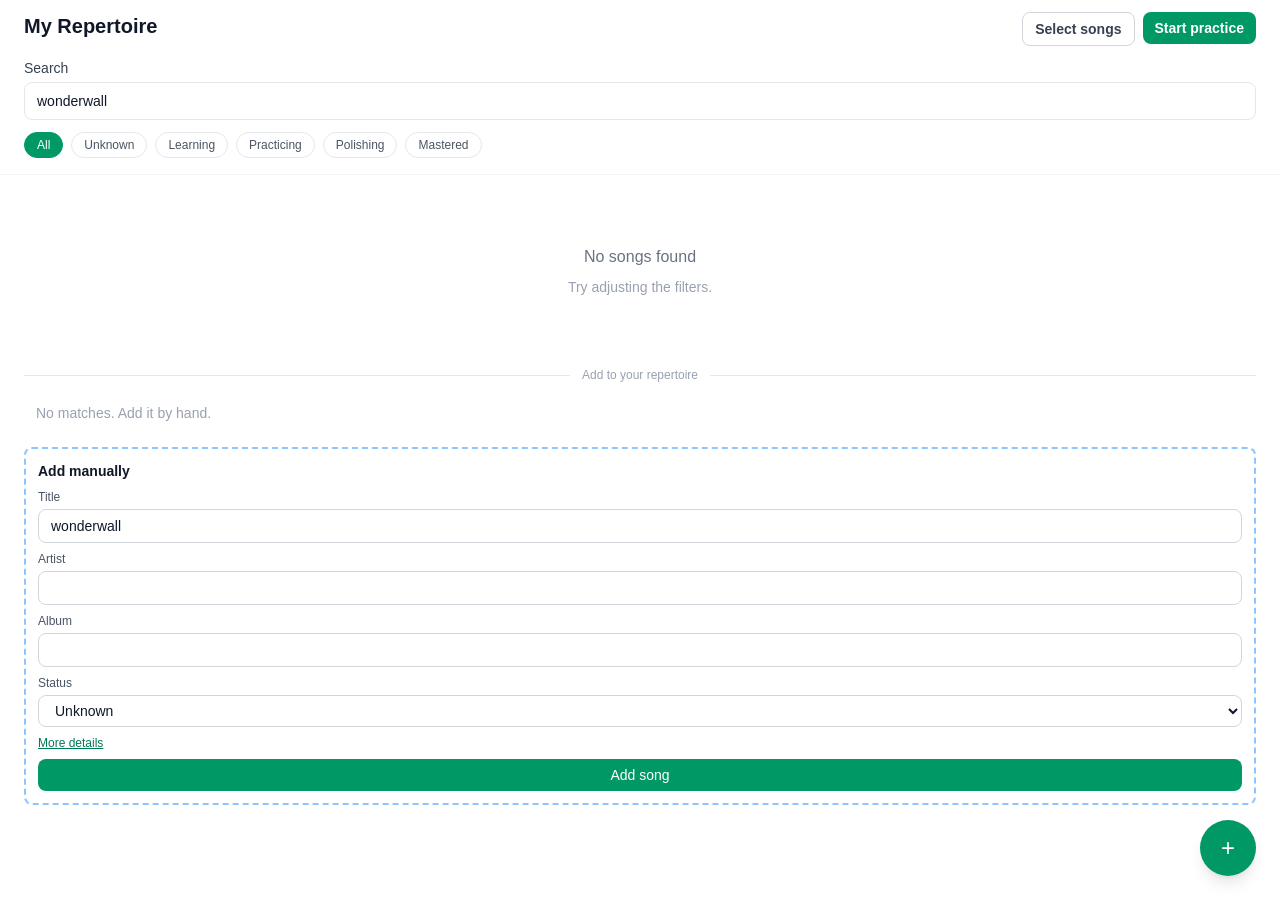
Scenario: manual entry panel (RH-152) › hides key, duration, cover and links until the disclosure opens
Expected: the field labelled "Title" is shown, [38,509,1242,543]
Expected: the field labelled "Artist" is shown, [38,571,1242,605]
Click the button "More details": (71, 743) [38,735,103,751]
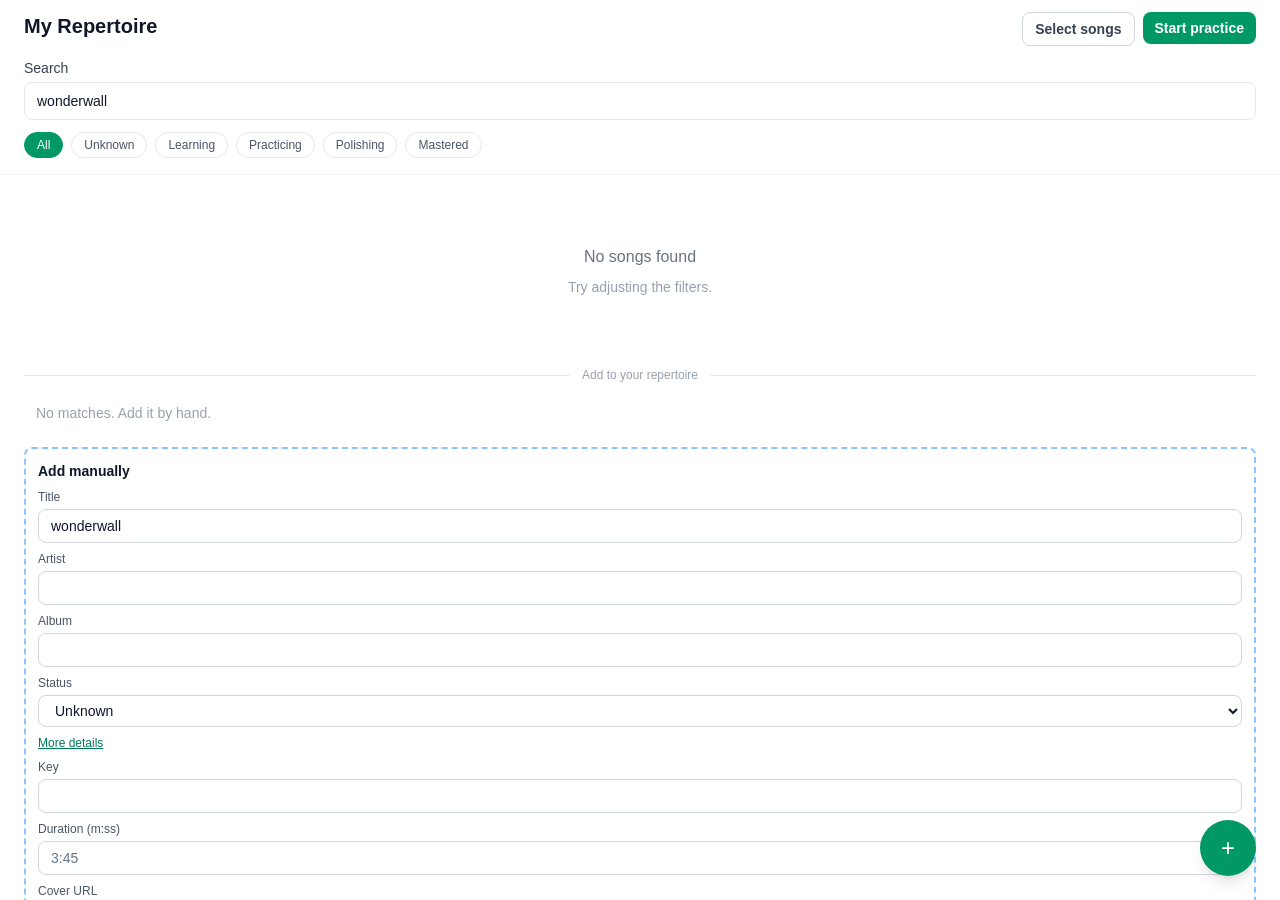
Now the field labelled "Key" is shown
Now the field labelled "Duration (m:ss)" is shown, box [38,841,1242,875]
In the field labelled "Key": (640, 796) [38,779,1242,813], type "F#m"
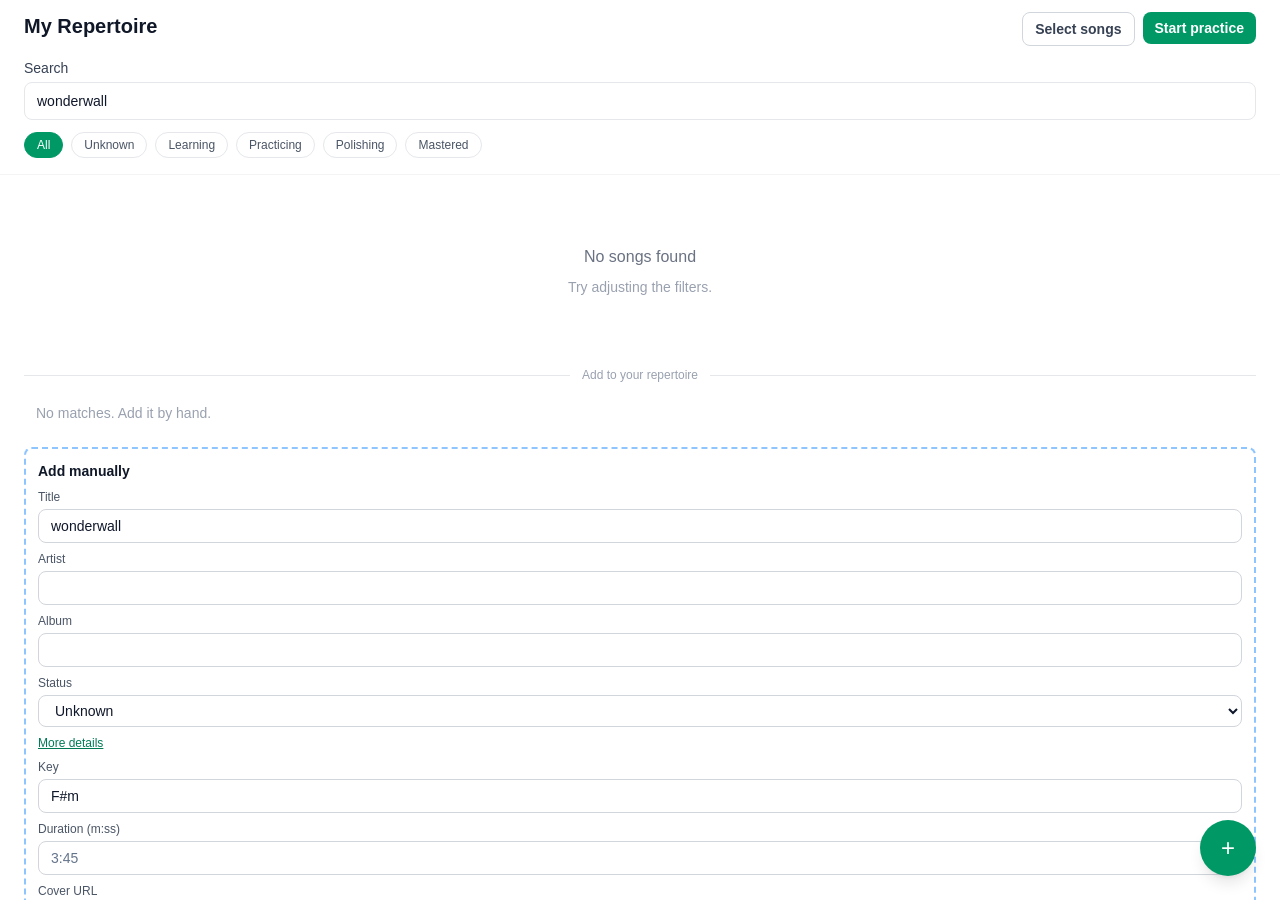
Click the button "More details": (71, 743) [38,735,103,751]
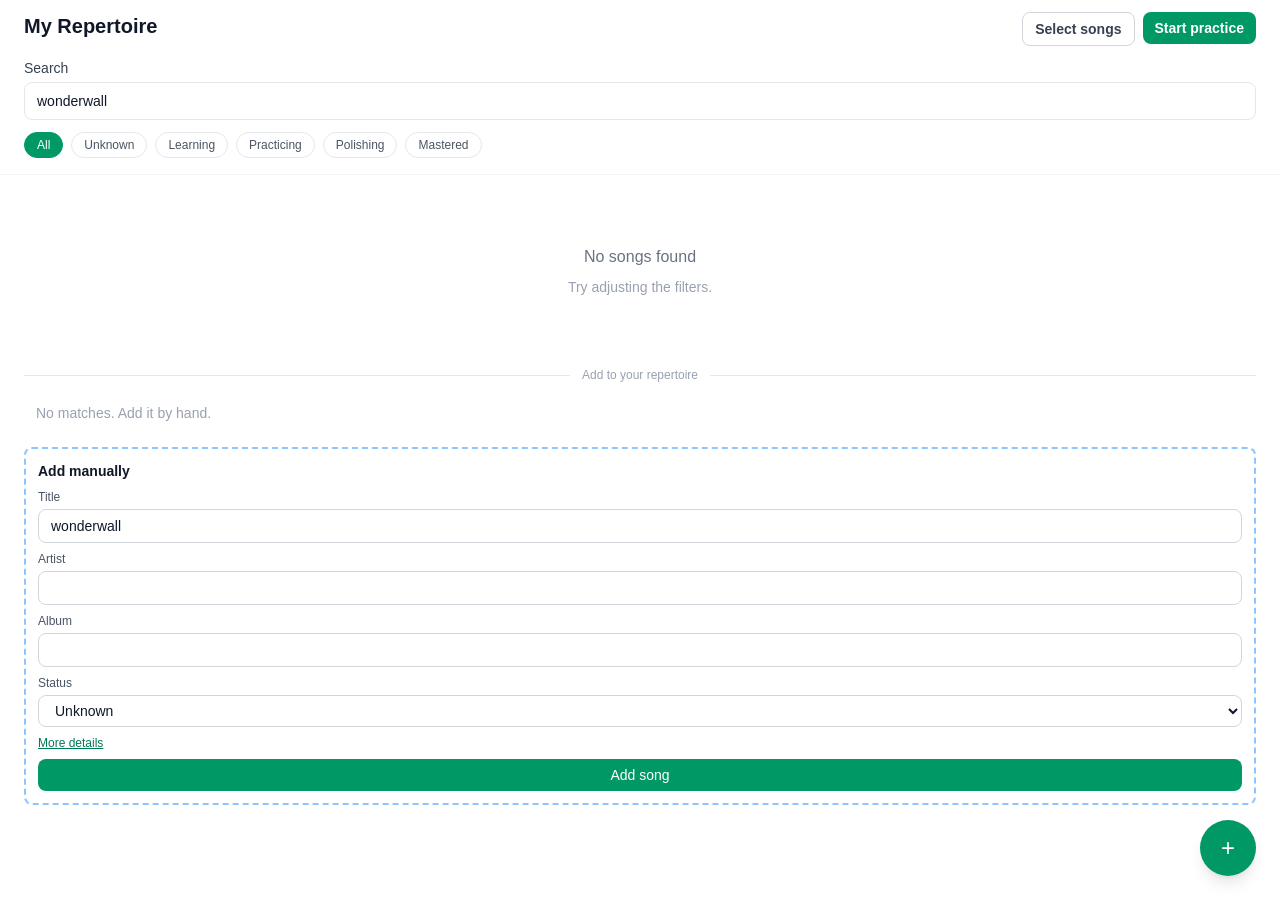
Click the button "More details": (71, 743) [38,735,103,751]
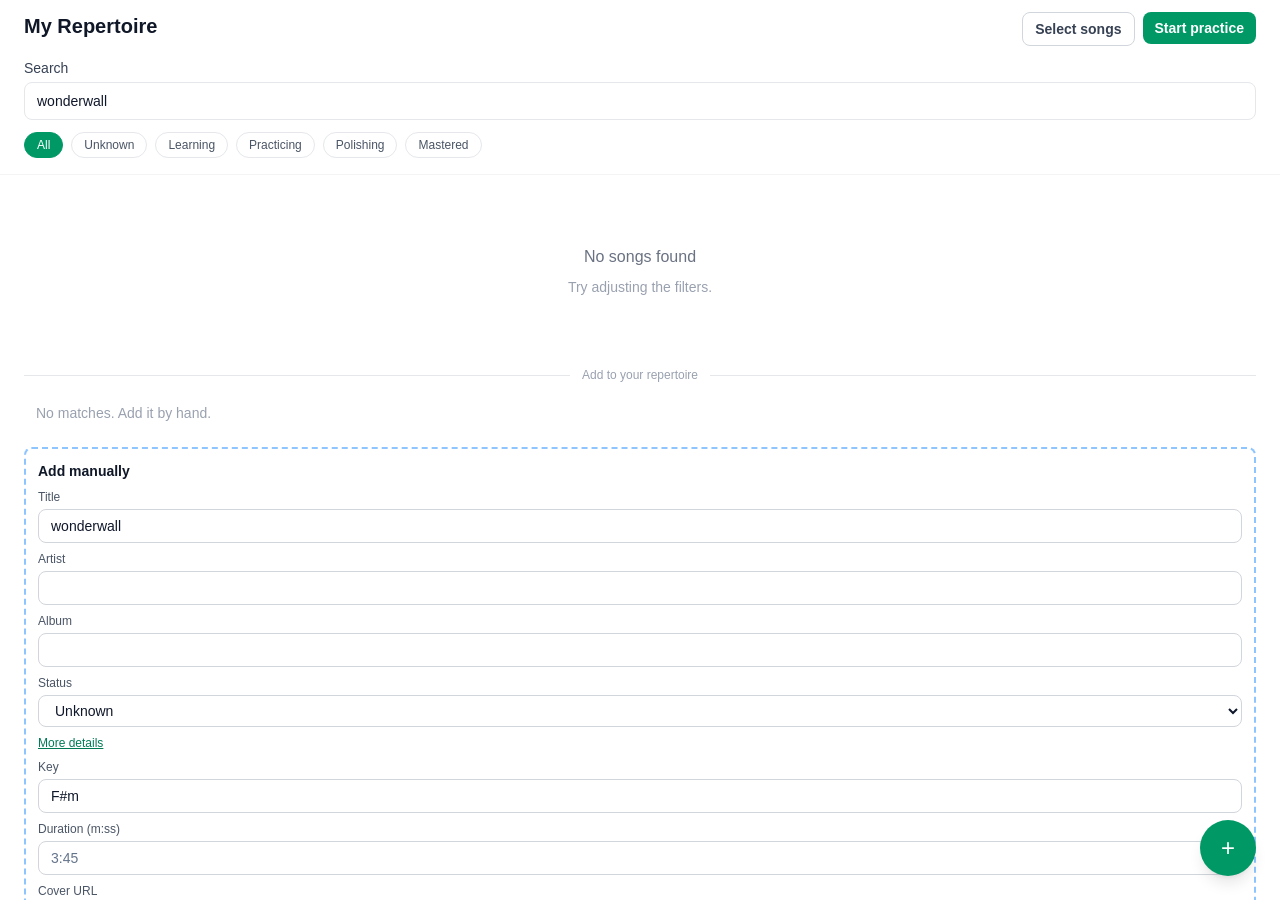
Now the field labelled "Key" holds "F#m", box [38,779,1242,813]
